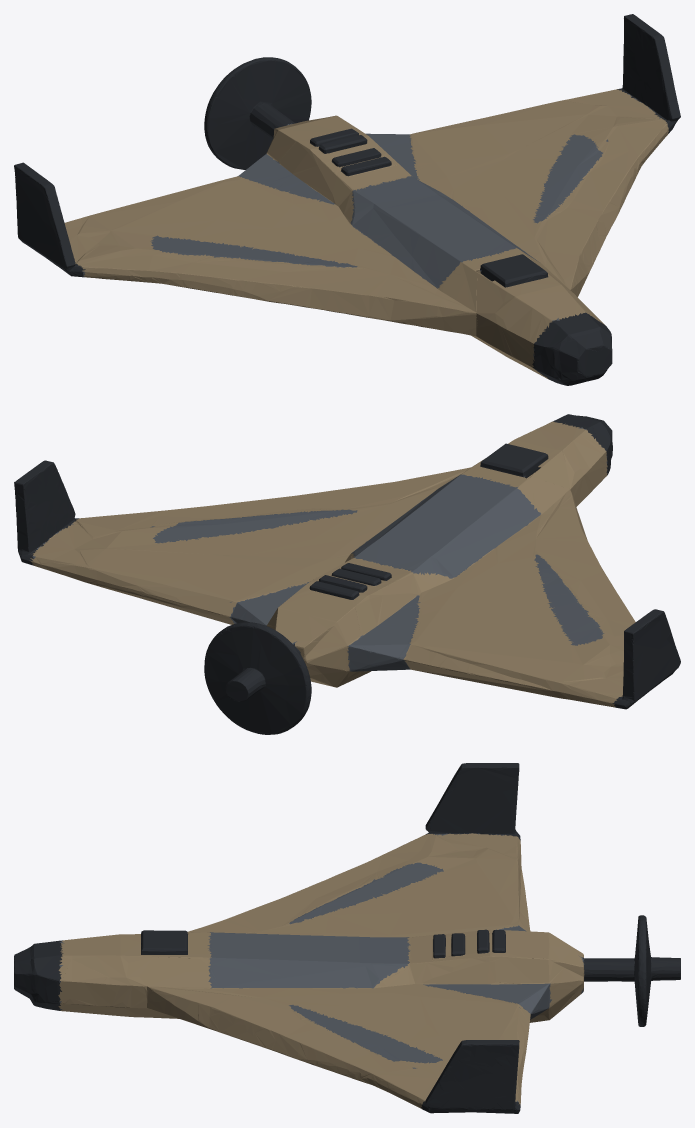
Rendered from dron-ala.glb.
3 views of the same model, one above another, from view 1: azimuth 30°, elevation 25°; view 2: azimuth 150°, elevation 25°; view 3: azimuth 270°, elevation 25° (orthographic). The views are drawn at different scales.
Visible parts, largest first — view 1: hull; view 2: hull; view 3: hull.
Boxes of the visible parts, bbox=[...] form: hull: bbox=[14, 14, 680, 385]; hull: bbox=[14, 414, 680, 734]; hull: bbox=[14, 763, 680, 1113].
Bounding box in the file's own units: 0.9987 × 0.196 × 1.
